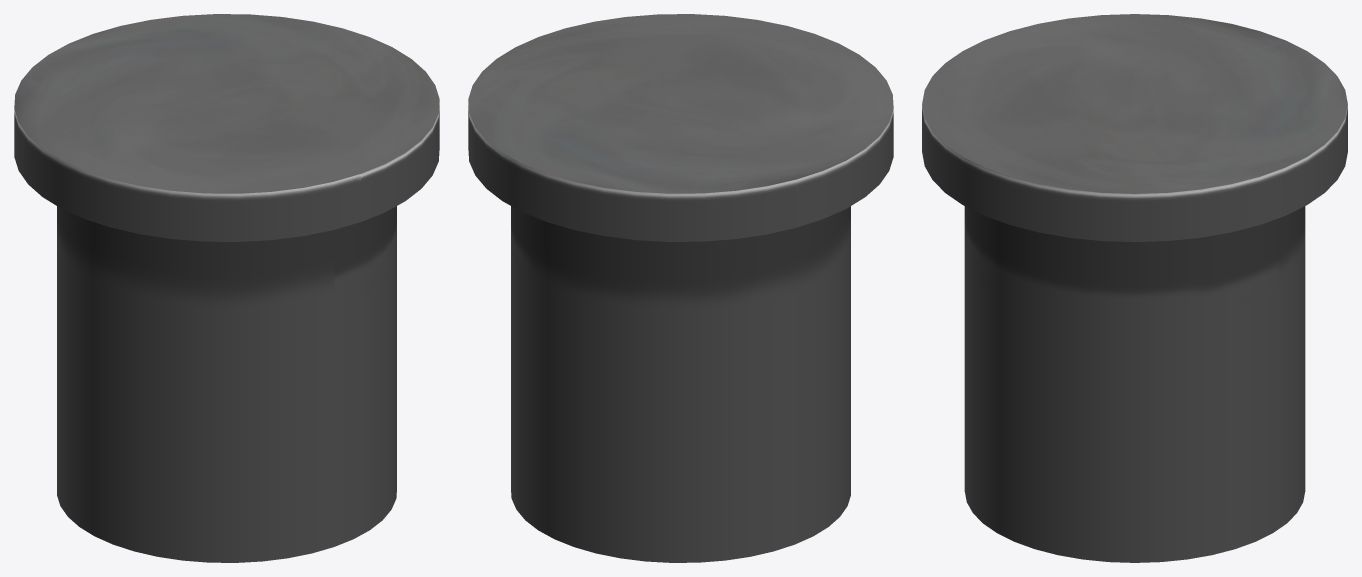
Rendered from Md_Bollard.fbx.
3 views of the same model, side by side, from view 1: azimuth 30°, elevation 25°; view 2: azimuth 150°, elevation 25°; view 3: azimuth 270°, elevation 25° (orthographic).
Visible parts, largest first — view 1: pCylinder2; view 2: pCylinder2; view 3: pCylinder2.
Part boxes in pixels (<box>): pCylinder2: <box>14,14,439,562</box>; pCylinder2: <box>468,14,893,562</box>; pCylinder2: <box>922,14,1347,562</box>.
Bounding box in the file's own units: 200 × 201 × 200.
